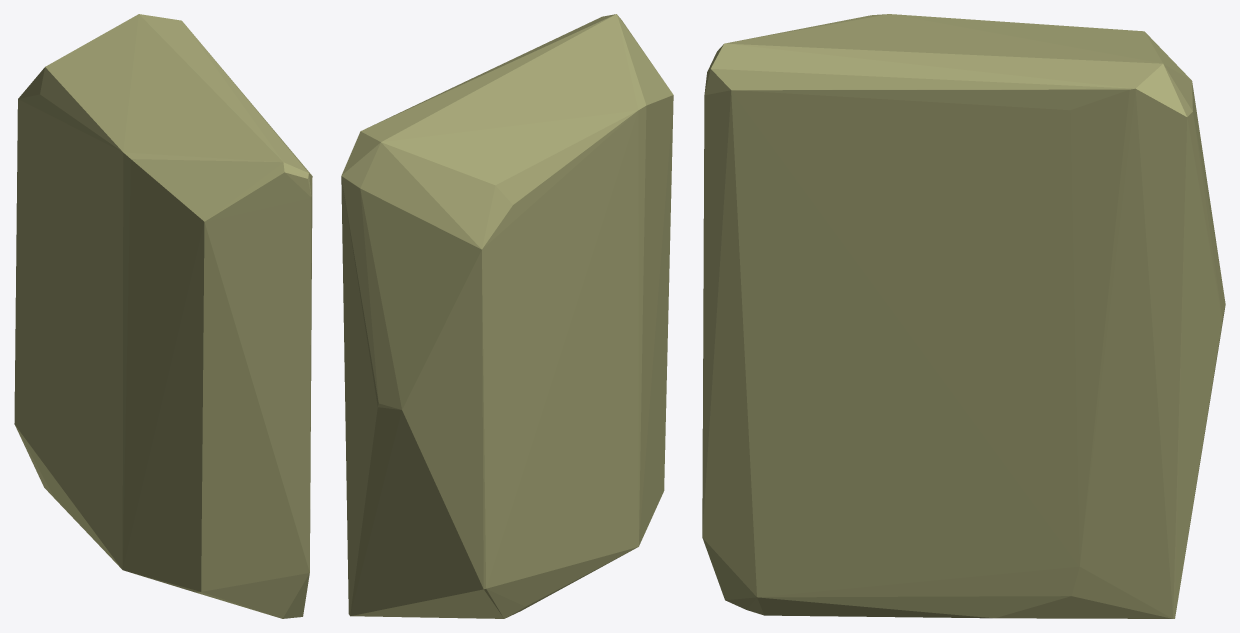
The model's file is monitor_a02.glb.
3 renders of one model, left to right at view 1: azimuth 30°, elevation 25°; view 2: azimuth 150°, elevation 25°; view 3: azimuth 270°, elevation 25°, orthographic. The views are drawn at different scales.
Parts seen in each view (by area): view 1: geometry_0; view 2: geometry_0; view 3: geometry_0.
Part boxes in pixels (x1,y1,x2,y2): geometry_0: (14, 14, 312, 618); geometry_0: (341, 14, 673, 618); geometry_0: (702, 14, 1225, 618).
Size of the model in its own units: 0.1687 by 0.4682 by 0.3959.
